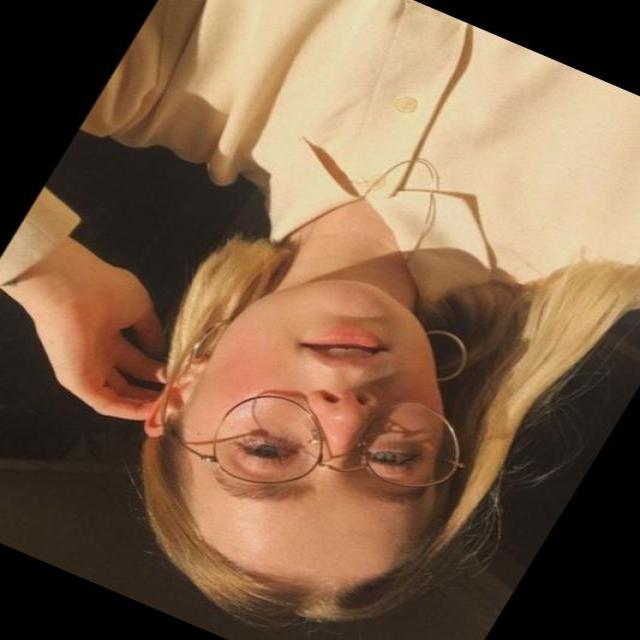glasses: (185, 336, 486, 556)
